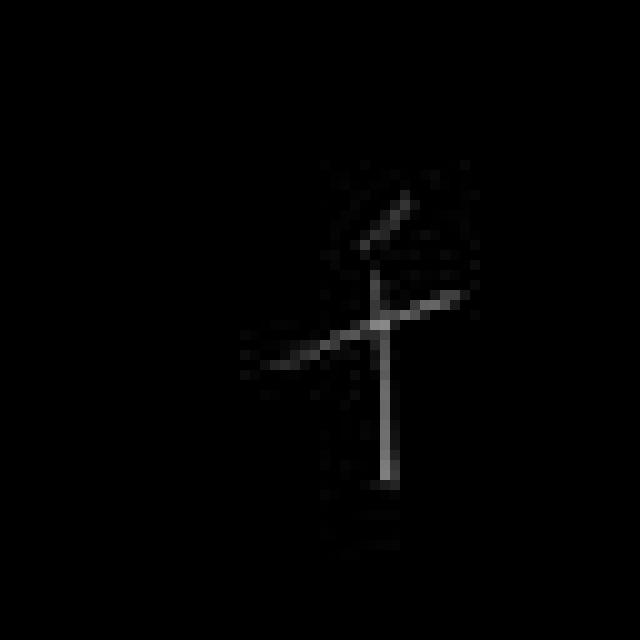1000 -a thousand-: (261, 186, 464, 488)
